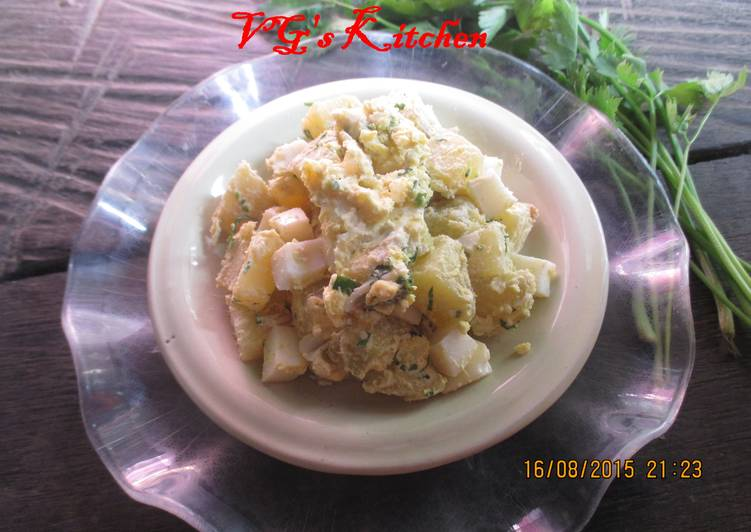boiled potatoes: (223, 97, 528, 402)
